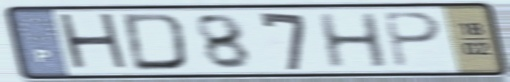7: (256, 10, 309, 72)
8: (194, 11, 254, 71)
D: (120, 11, 192, 73)
H: (53, 10, 134, 74), (315, 10, 392, 70)
P: (379, 10, 446, 70)
